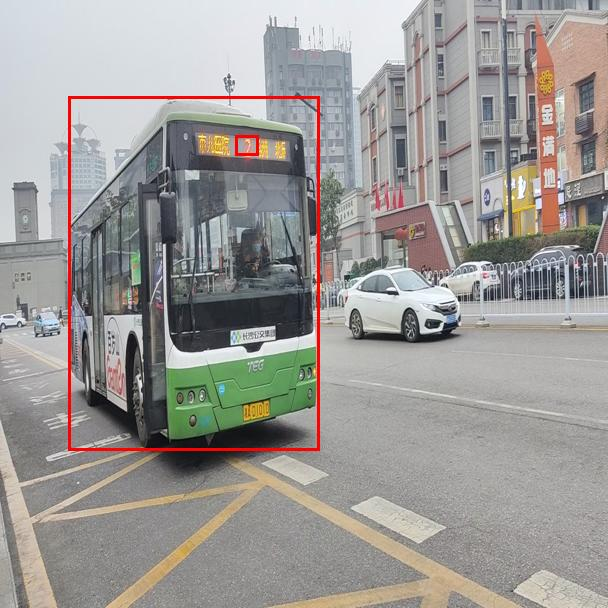bus: (68, 96, 319, 450)
screen: (235, 135, 258, 155)
